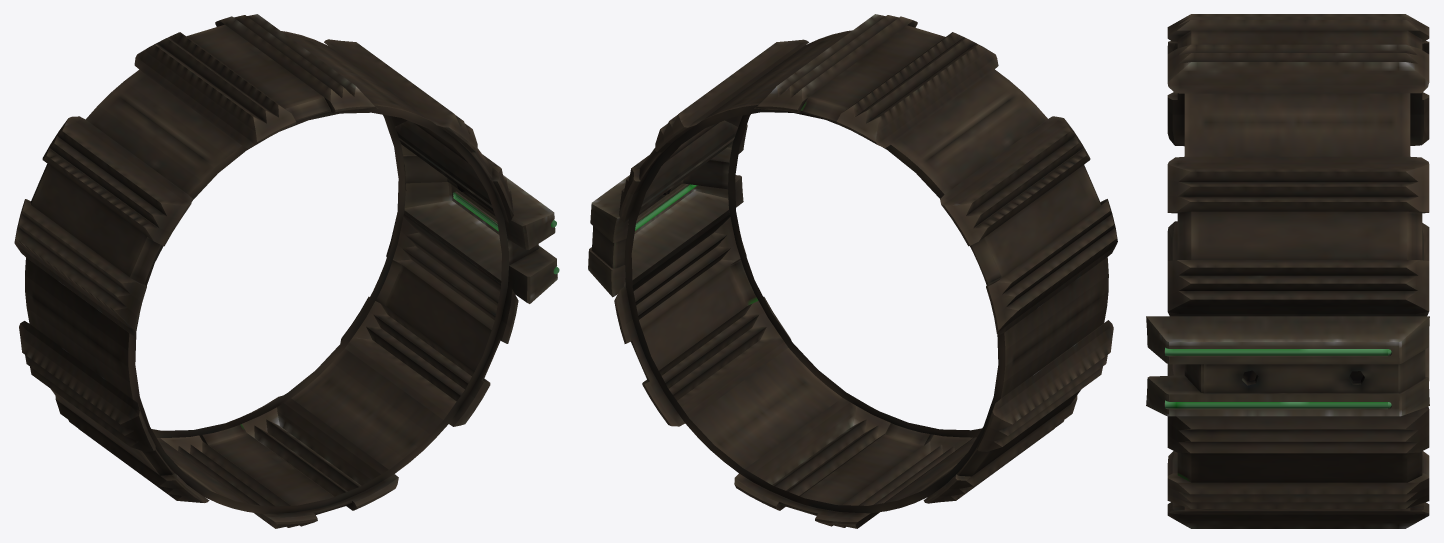
3 renders of one model, left to right at view 1: azimuth 30°, elevation 25°; view 2: azimuth 150°, elevation 25°; view 3: azimuth 270°, elevation 25°, orthographic. The views are drawn at different scales.
Visible parts, largest first — view 1: TW_6567e7681265c8a131069b0f_PZ_Import; view 2: TW_6567e7681265c8a131069b0f_PZ_Import; view 3: TW_6567e7681265c8a131069b0f_PZ_Import.
Boxes of the visible parts, <box> form: TW_6567e7681265c8a131069b0f_PZ_Import: <box>14,14,559,528</box>; TW_6567e7681265c8a131069b0f_PZ_Import: <box>588,14,1117,528</box>; TW_6567e7681265c8a131069b0f_PZ_Import: <box>1146,14,1429,528</box>.
Size of the model in its own units: 0.0301 by 0.0157 by 0.0286.
Materials: 1 (1 with a texture image).
